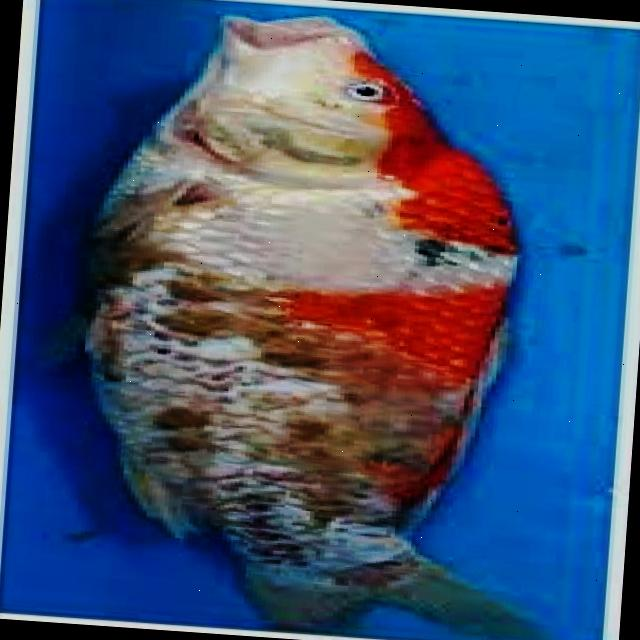Epizootic Ulcerative Syndrome -EUS-: (83, 18, 531, 637)
